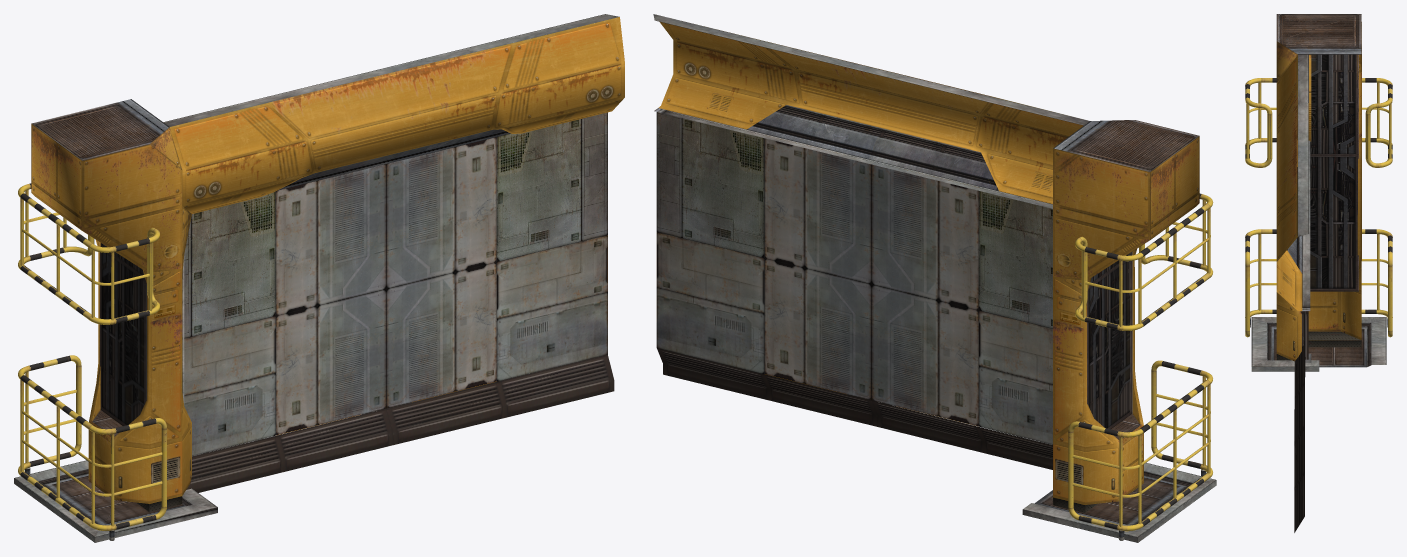
File: ARC_Pilar_Pipes_SideTurn01.FBX
The picture shows the model from 3 angles, left to right: view 1: azimuth 30°, elevation 25°; view 2: azimuth 150°, elevation 25°; view 3: azimuth 270°, elevation 25°; orthographic projection. The views are drawn at different scales.
Parts seen in each view (by area): view 1: ARC_Pilar_Pipes_SideTurn01; view 2: ARC_Pilar_Pipes_SideTurn01; view 3: ARC_Pilar_Pipes_SideTurn01.
Boxes of the visible parts, x1,y1,x2,y2 form: ARC_Pilar_Pipes_SideTurn01: (14,14,624,542); ARC_Pilar_Pipes_SideTurn01: (653,14,1216,542); ARC_Pilar_Pipes_SideTurn01: (1245,14,1392,532).
Bounding box in the file's own units: 624 × 401 × 174.
